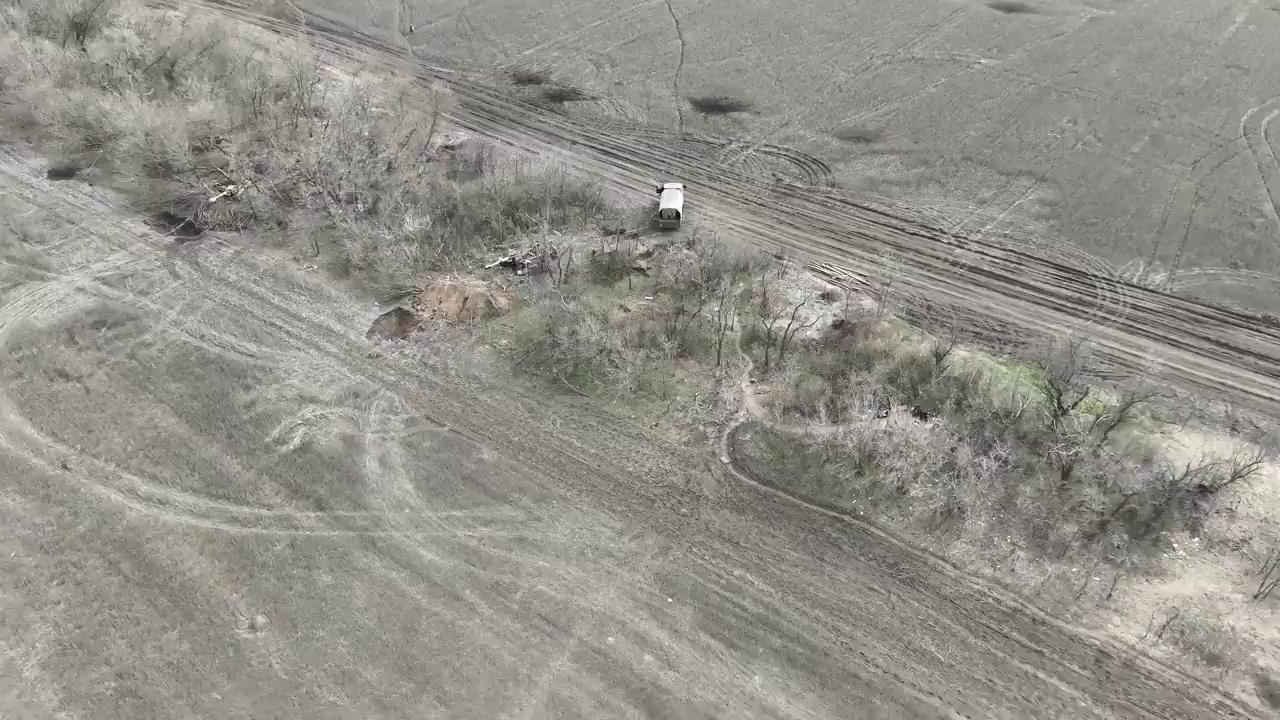trench: (350, 268, 515, 351)
vehicle: (655, 180, 682, 230)
